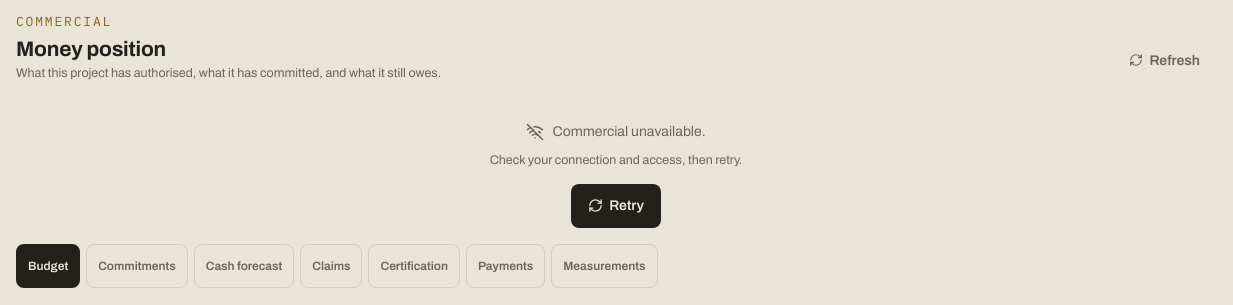
Scenario: Task 7B-ii (§M) — the rendered claim tabs never dereference an absent claim › S2: a failed line-source read is reported as unavailable, not as an empty project
Step 1. Click the button with test id "commercial-tab-measurements" → (604, 266), box [551,244,658,288]
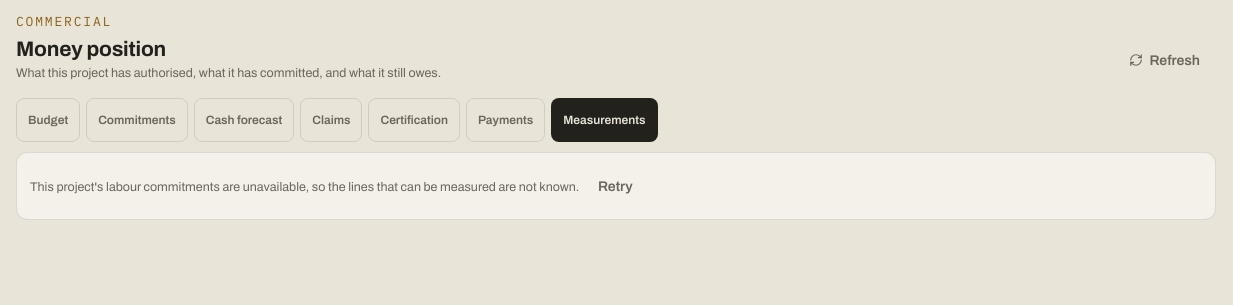
Expected: the button with test id "commercial-measurements-retry" is shown, [582,164,649,208]
Now the element with test id "commercial-measurements-unavailable" is shown, box [16,152,1216,220]
